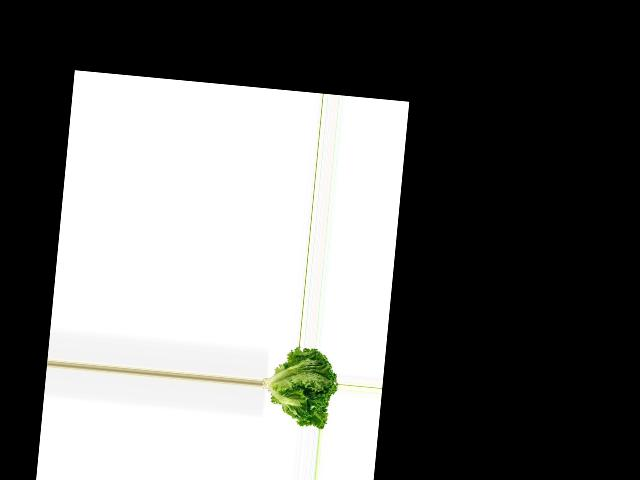lettuce: (258, 343, 340, 429)
